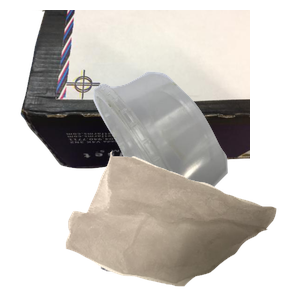cardboard: (18, 10, 258, 171)
glass: (98, 168, 251, 300)
plastic: (91, 69, 300, 249)
trash: (63, 149, 300, 300)
